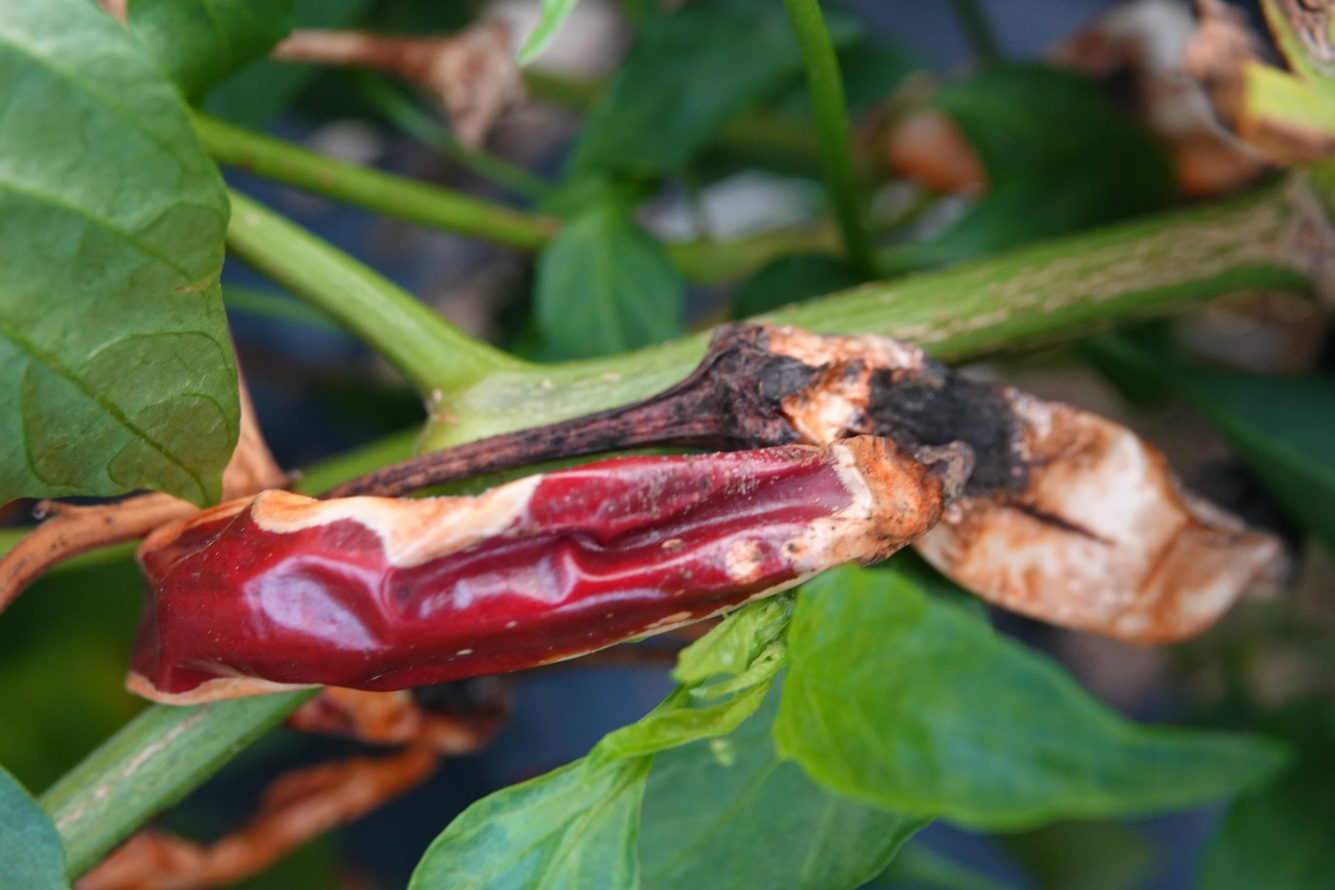Busuk Buah Antraknosa: (121, 430, 956, 708), (688, 318, 1321, 651)
